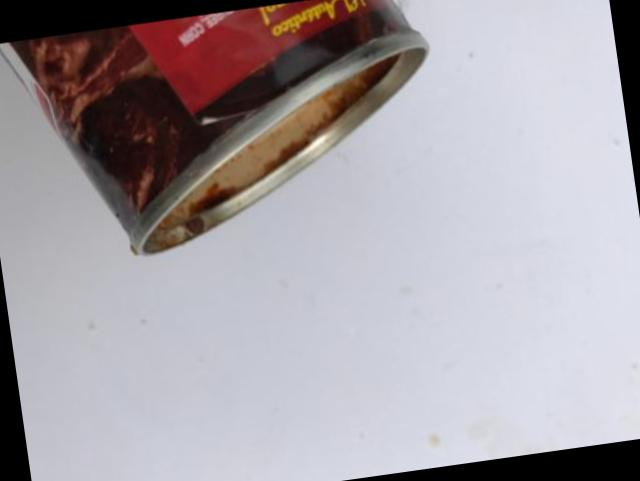metal: (0, 0, 429, 256)
